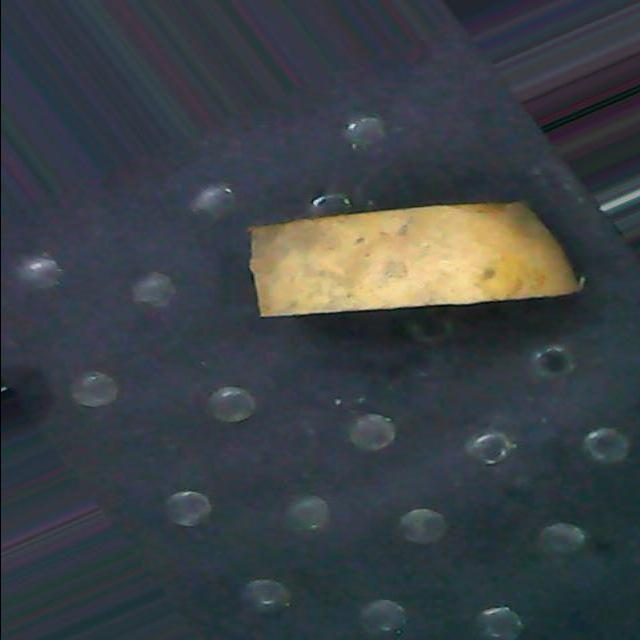-Kitchen waste - potato-: (250, 203, 580, 319)
